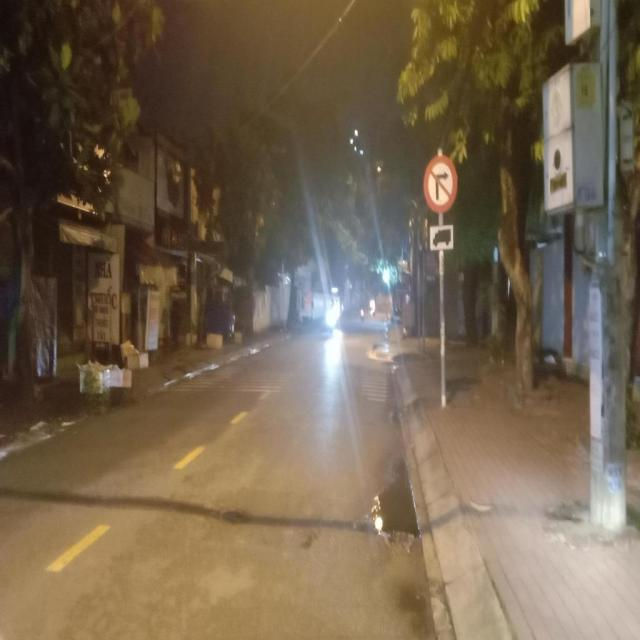cam_re_phai: (424, 154, 457, 214)
khac: (429, 225, 454, 250)
